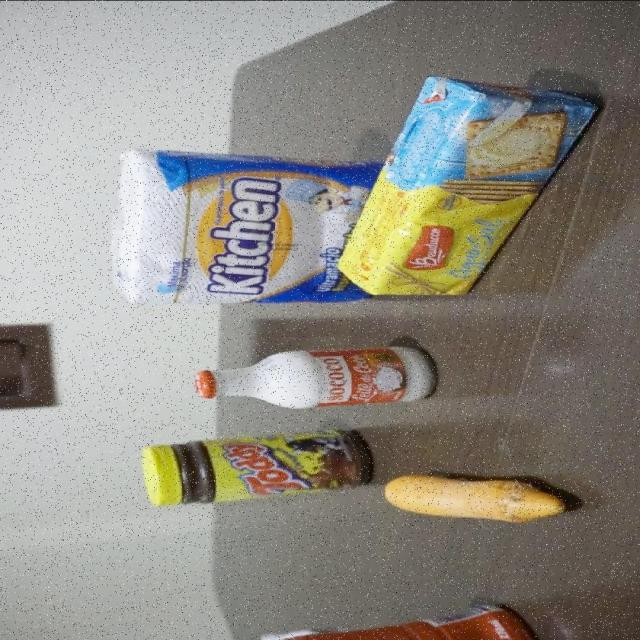Carrot: (382, 474, 570, 525)
ChocolateMilk: (240, 601, 548, 640)
ChocolatePowder: (142, 428, 372, 508)
CoconutMilk: (193, 344, 440, 409)
Cracker: (337, 74, 600, 299)
Napkin: (108, 148, 341, 306)
